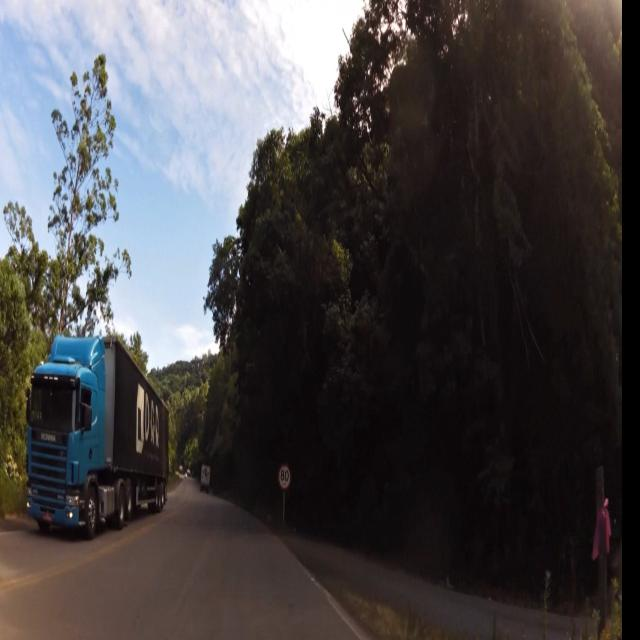R-19: (280, 463, 291, 493)
